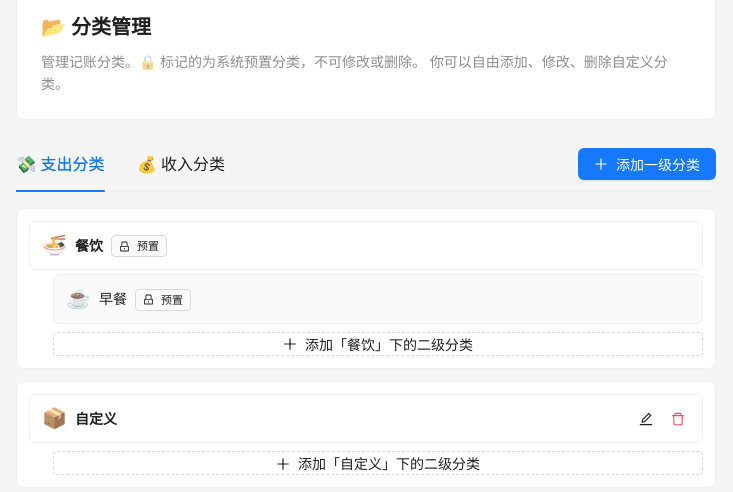
Scenario: CategoryPage — Tab 切换 › 切换回支出分类后显示支出内容
What coordinates should you click on to do the following:
click the tab "💰 收入分类"
I would click on:
 (181, 164)
Its box is left=136, top=152, right=225, bottom=176.
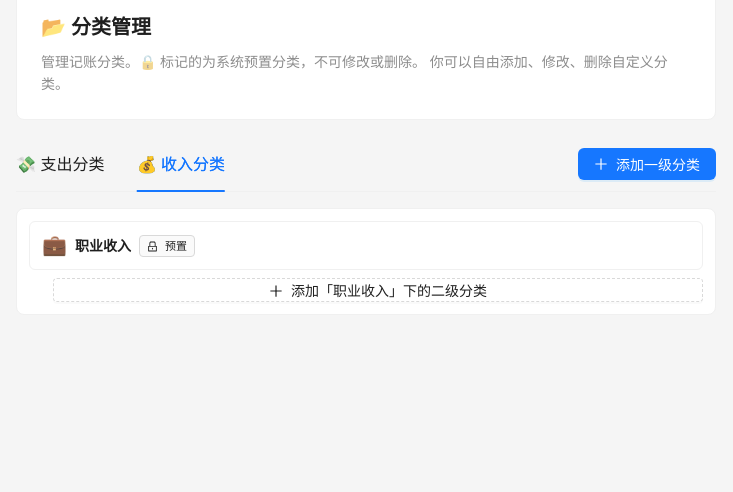
What coordinates should you click on to do the following:
click the tab "💸 支出分类"
I would click on:
 (60, 164)
Its box is left=16, top=152, right=104, bottom=176.
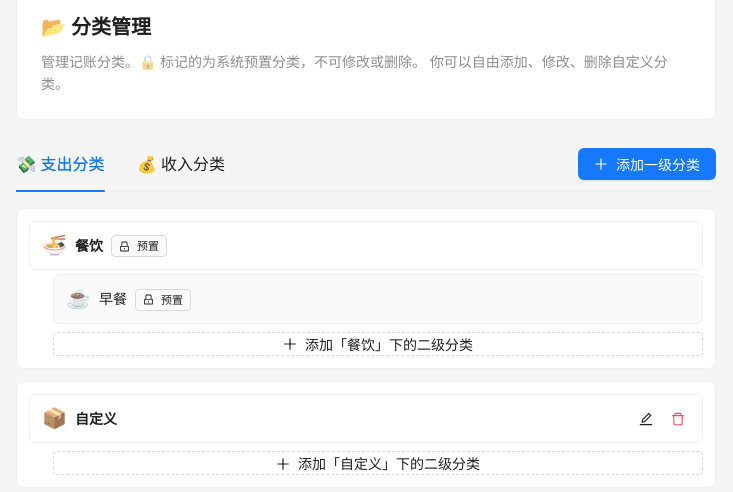
Now the text "餐饮" is shown, box left=75, top=237, right=103, bottom=254
